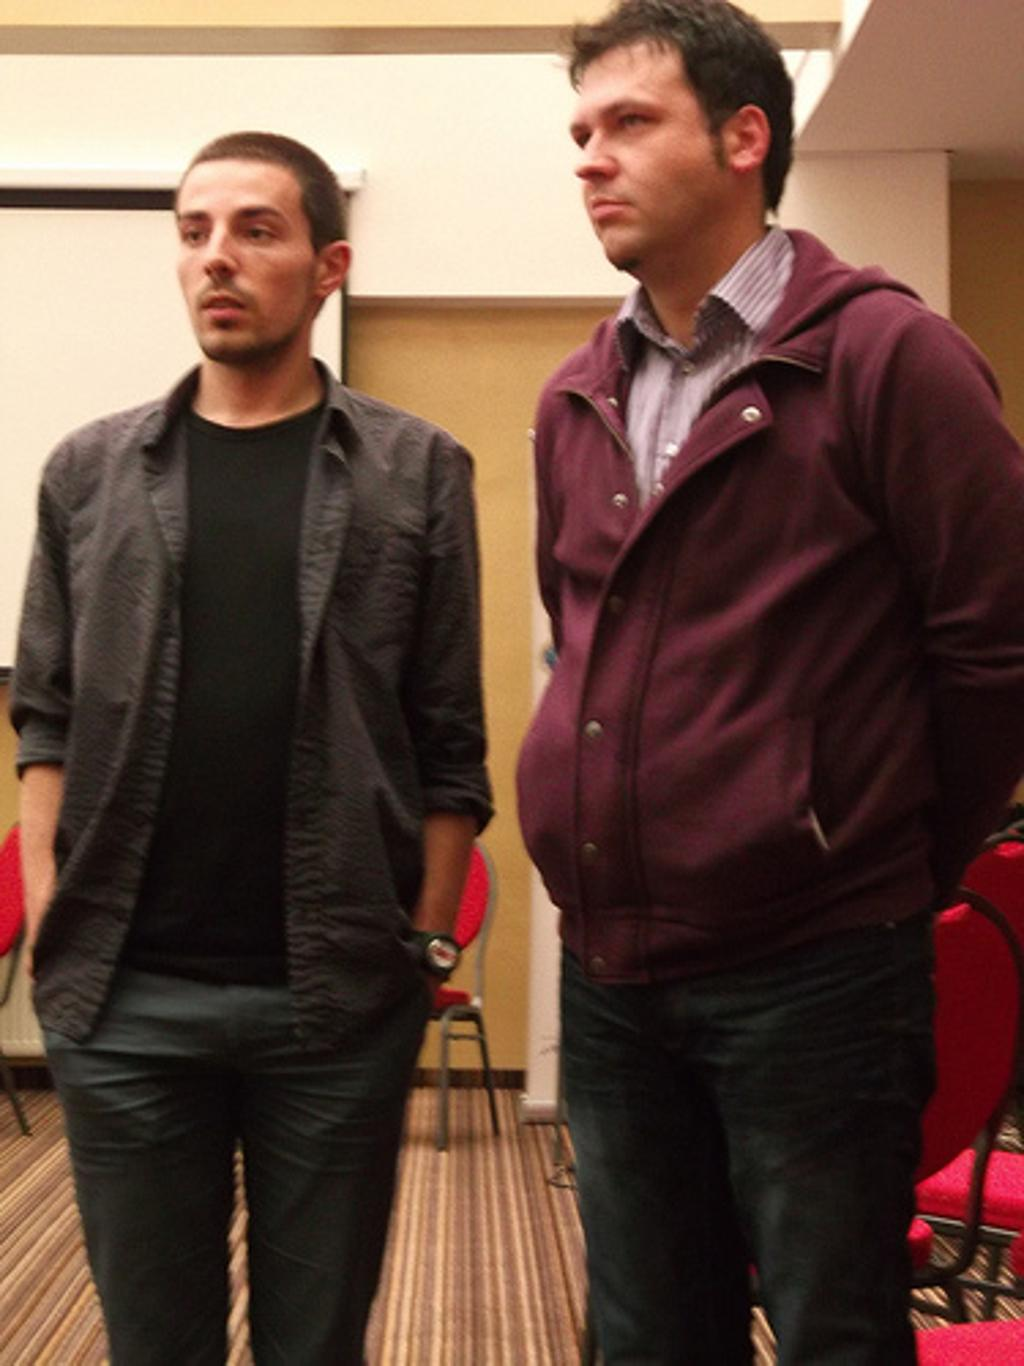face: (573, 45, 720, 261), (181, 149, 320, 352)
